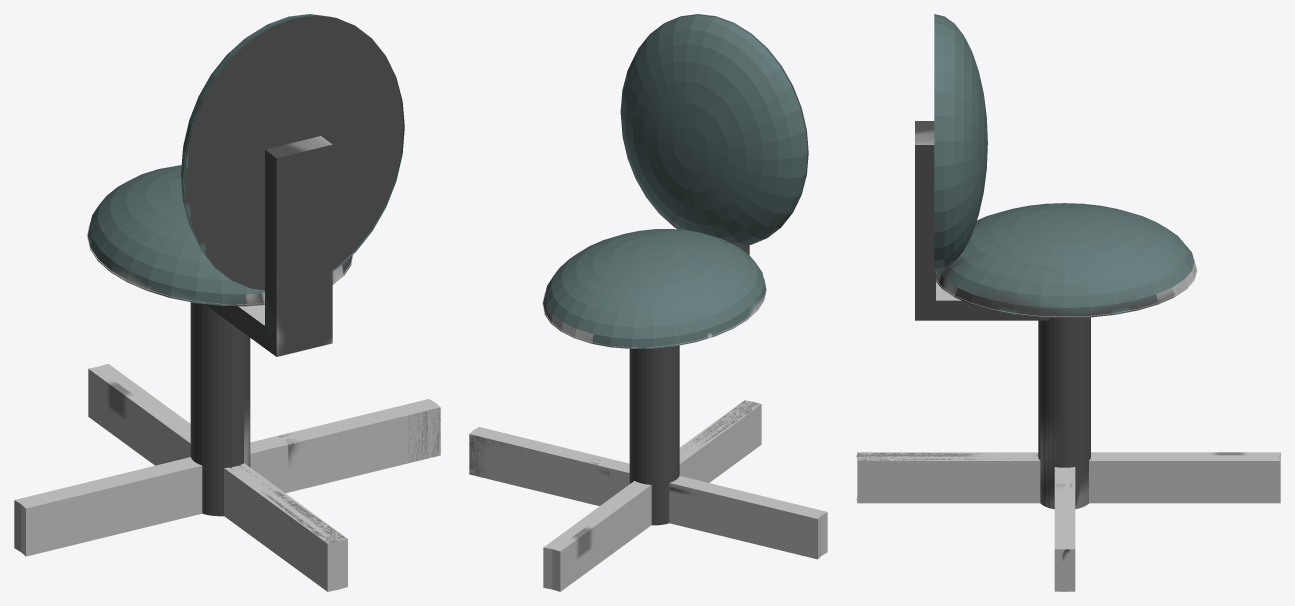
Rendered from Chair.glb.
The picture shows the model from 3 angles, left to right: view 1: azimuth 30°, elevation 25°; view 2: azimuth 150°, elevation 25°; view 3: azimuth 270°, elevation 25°; orthographic projection. The views are drawn at different scales.
Parts seen in each view (by area): view 1: Cylinder; view 2: Cylinder; view 3: Cylinder.
Boxes of the visible parts, x1,y1,x2,y2 form: Cylinder: (14,14,440,591); Cylinder: (469,14,827,591); Cylinder: (856,14,1280,591).
Bounding box in the file's own units: 3.21 × 3.98 × 3.21.
Materials: 1 (1 with a texture image).
